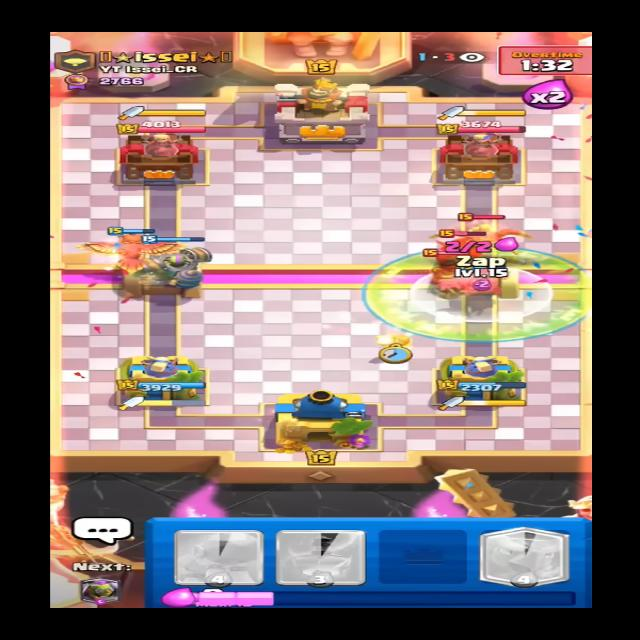phoenix: (423, 211, 541, 252)
ram-rider: (417, 254, 477, 294)
